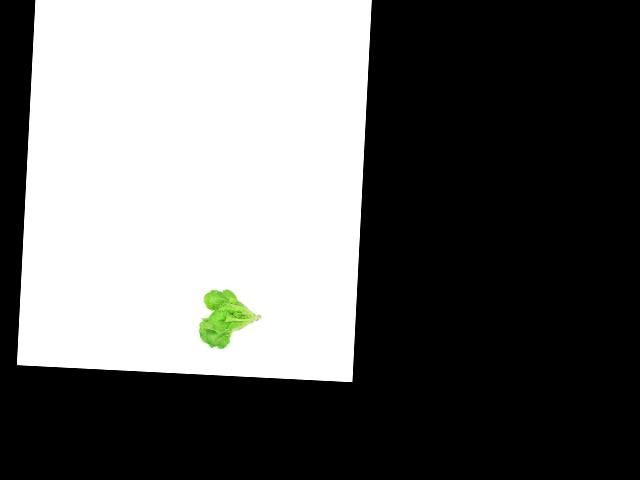lettuce: (194, 285, 264, 354)
